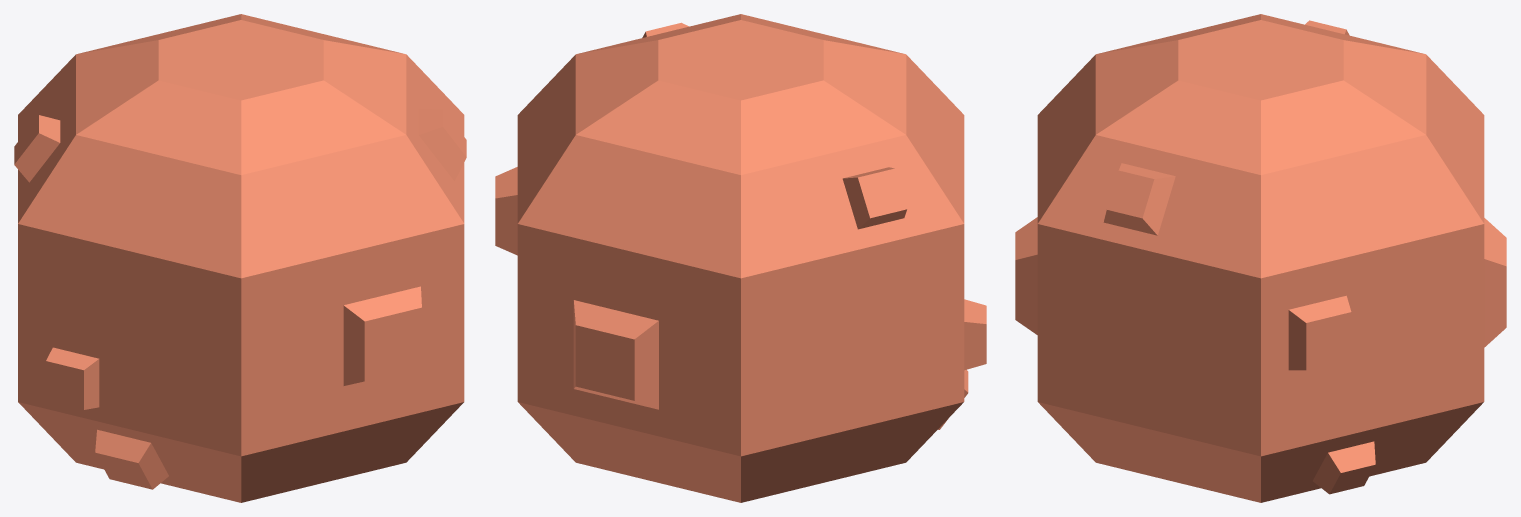
File: meteor_detailed.dae
The picture shows the model from 3 angles, left to right: view 1: azimuth 30°, elevation 25°; view 2: azimuth 150°, elevation 25°; view 3: azimuth 270°, elevation 25°; orthographic projection.
Visible parts, largest first — view 1: meteor_detailed; view 2: meteor_detailed; view 3: meteor_detailed.
Boxes of the visible parts, box(x1,y1,x2,y2) form: meteor_detailed: box(14, 14, 466, 502); meteor_detailed: box(495, 14, 986, 502); meteor_detailed: box(1015, 14, 1506, 502).
Bounding box in the file's own units: 0.866 × 0.735 × 0.825.
